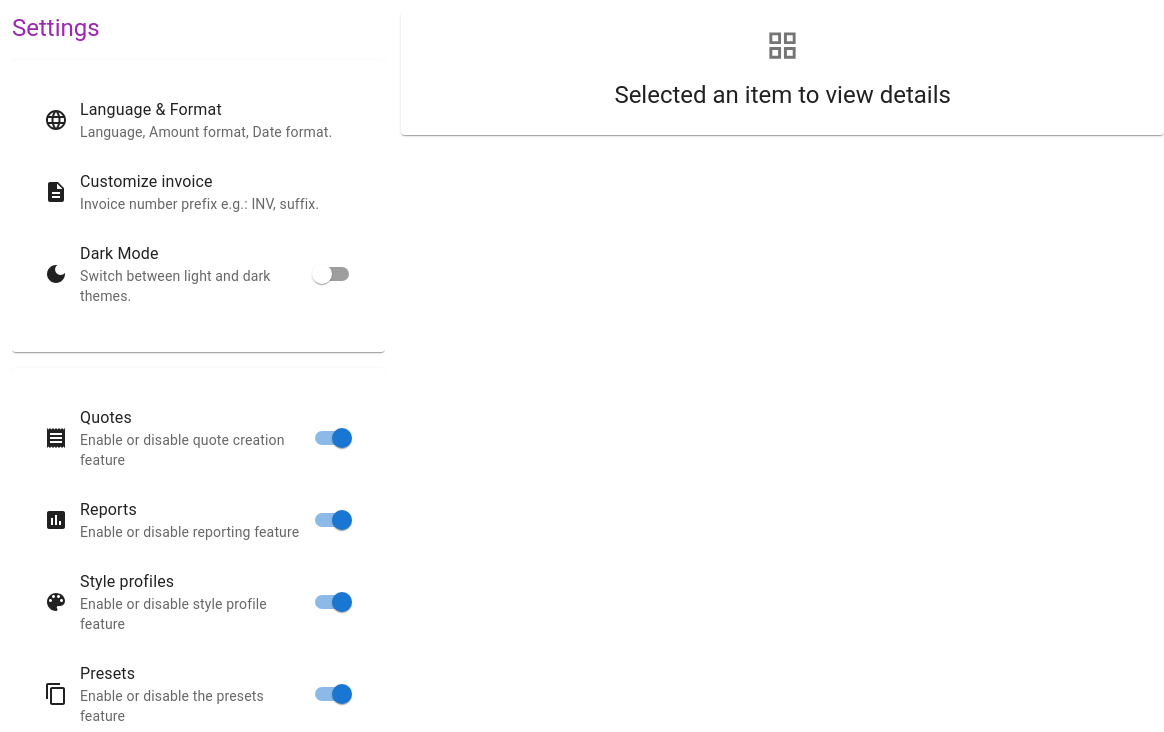
it: SettingsPage › shows the customize invoice content when that menu item is selected
Click the text "Customize invoice" at [146, 182], box [80, 172, 213, 191]
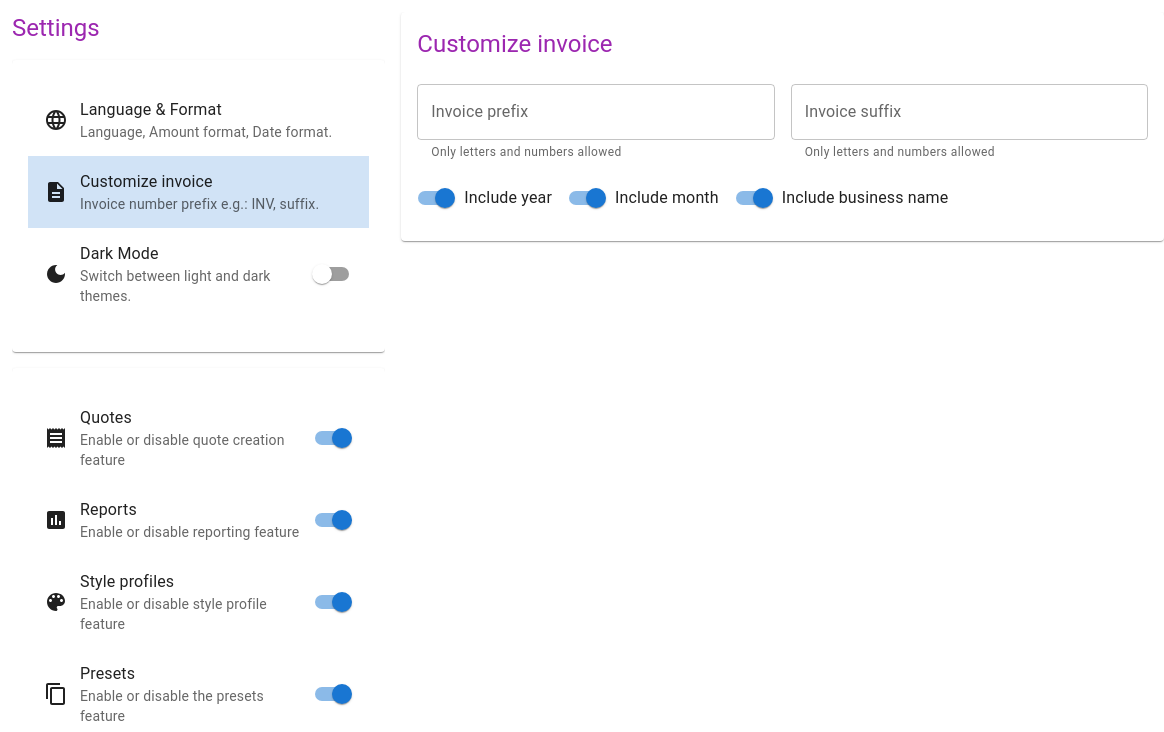
expect the heading "Selected an item to view details" is gone: met
